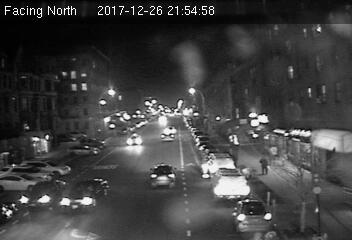car: (61, 179, 108, 212), (232, 195, 273, 231), (18, 182, 66, 208), (146, 164, 176, 188), (125, 132, 144, 146), (161, 130, 176, 143)
truck: (210, 165, 252, 200)
